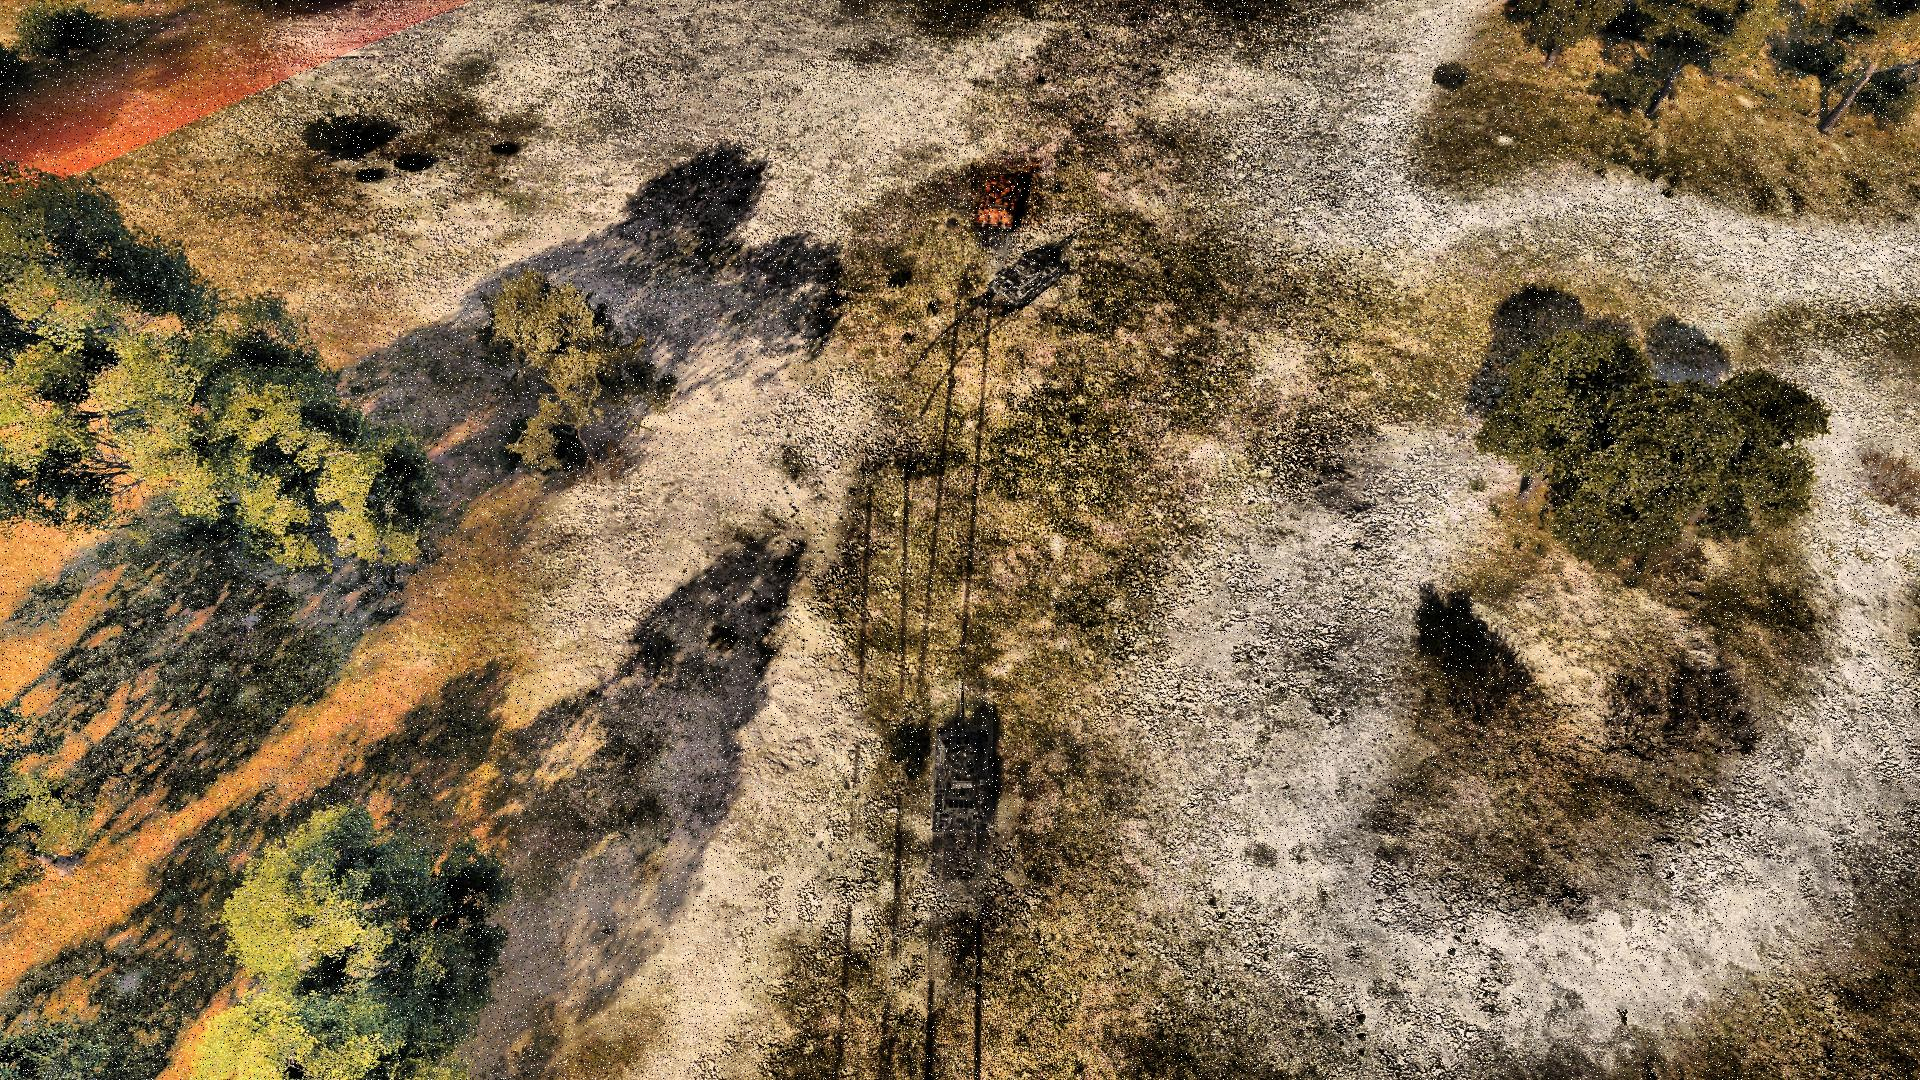military-vehicle: (930, 679, 993, 835), (989, 232, 1080, 305), (972, 160, 1042, 225)
